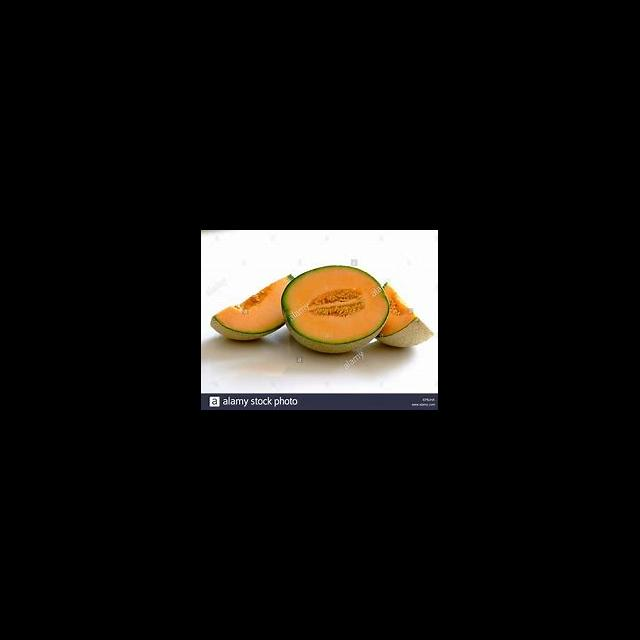Hami Melon: (281, 266, 390, 355), (211, 274, 294, 341), (378, 281, 435, 348)
